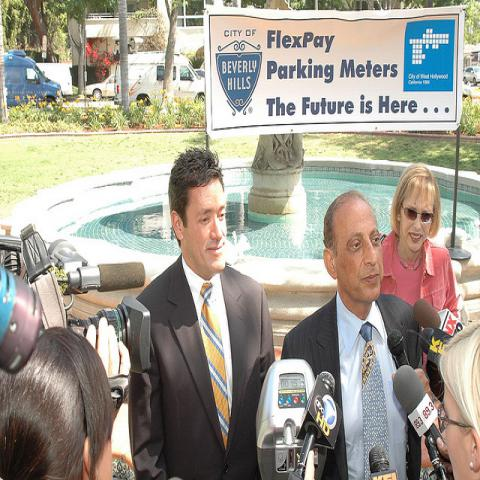car: (83, 73, 115, 102)
truck: (126, 54, 204, 106), (2, 49, 60, 109), (36, 63, 74, 102)
